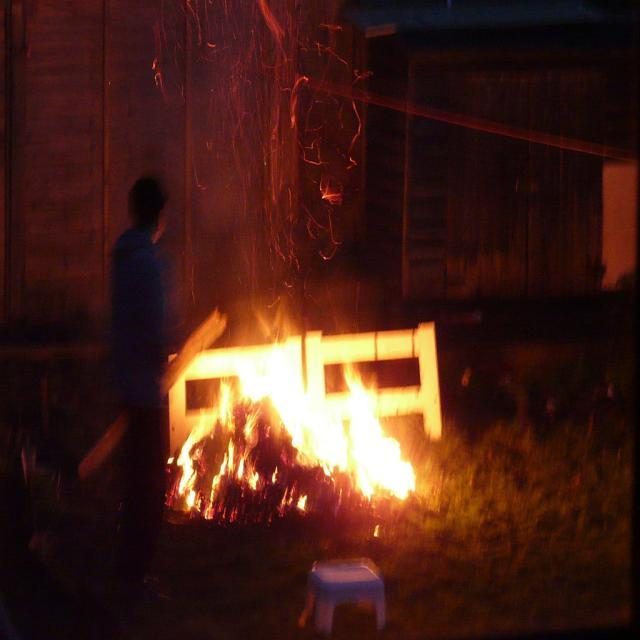Fire: (285, 388, 341, 456), (353, 432, 412, 496), (245, 348, 300, 402)
